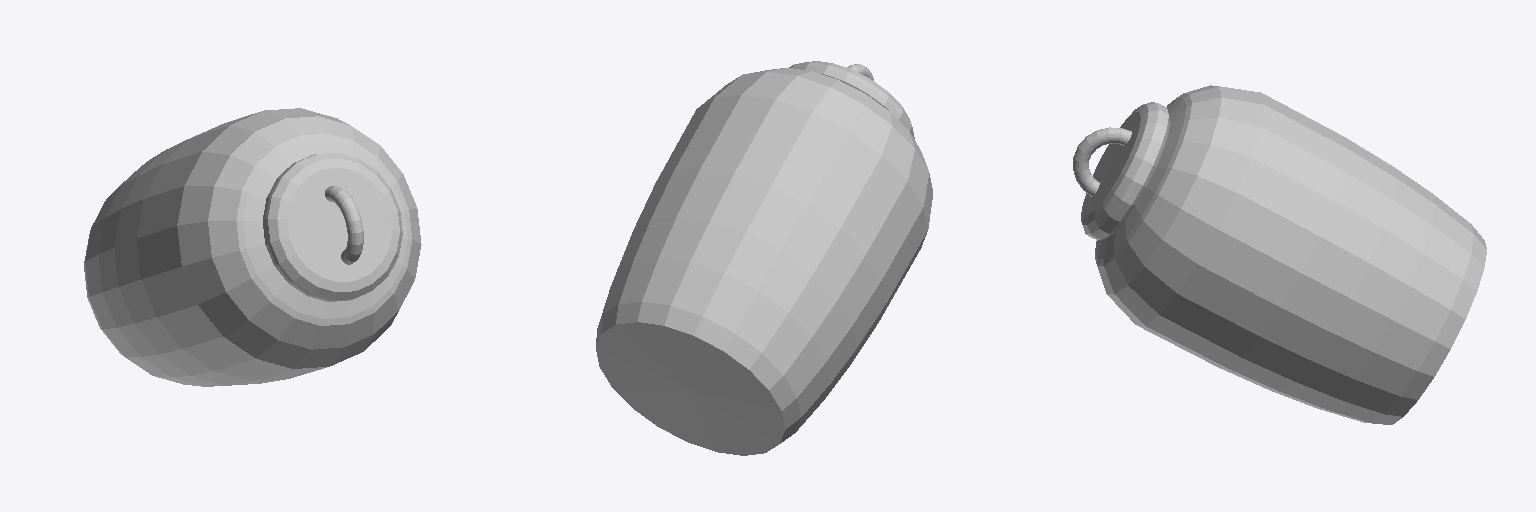
File: Urn_W_3.obj
3 views of the same model, side by side, from view 1: azimuth 30°, elevation 25°; view 2: azimuth 150°, elevation 25°; view 3: azimuth 270°, elevation 25° (orthographic).
Parts seen in each view (by area): view 1: Undertaker_walk:Undertaker_4:Undertaker_4:Urn; view 2: Undertaker_walk:Undertaker_4:Undertaker_4:Urn; view 3: Undertaker_walk:Undertaker_4:Undertaker_4:Urn.
Boxes of the visible parts, x1,y1,x2,y2 form: Undertaker_walk:Undertaker_4:Undertaker_4:Urn: [84, 108, 421, 386]; Undertaker_walk:Undertaker_4:Undertaker_4:Urn: [596, 61, 932, 455]; Undertaker_walk:Undertaker_4:Undertaker_4:Urn: [1073, 85, 1486, 424].
Bounding box in the file's own units: 0.4718 × 0.6233 × 0.7371.